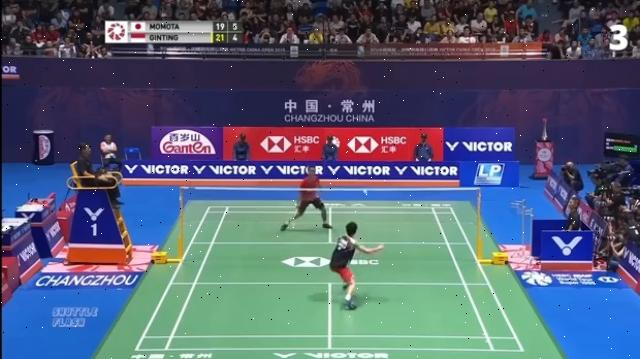Shuttlecock: (359, 188, 369, 199)
